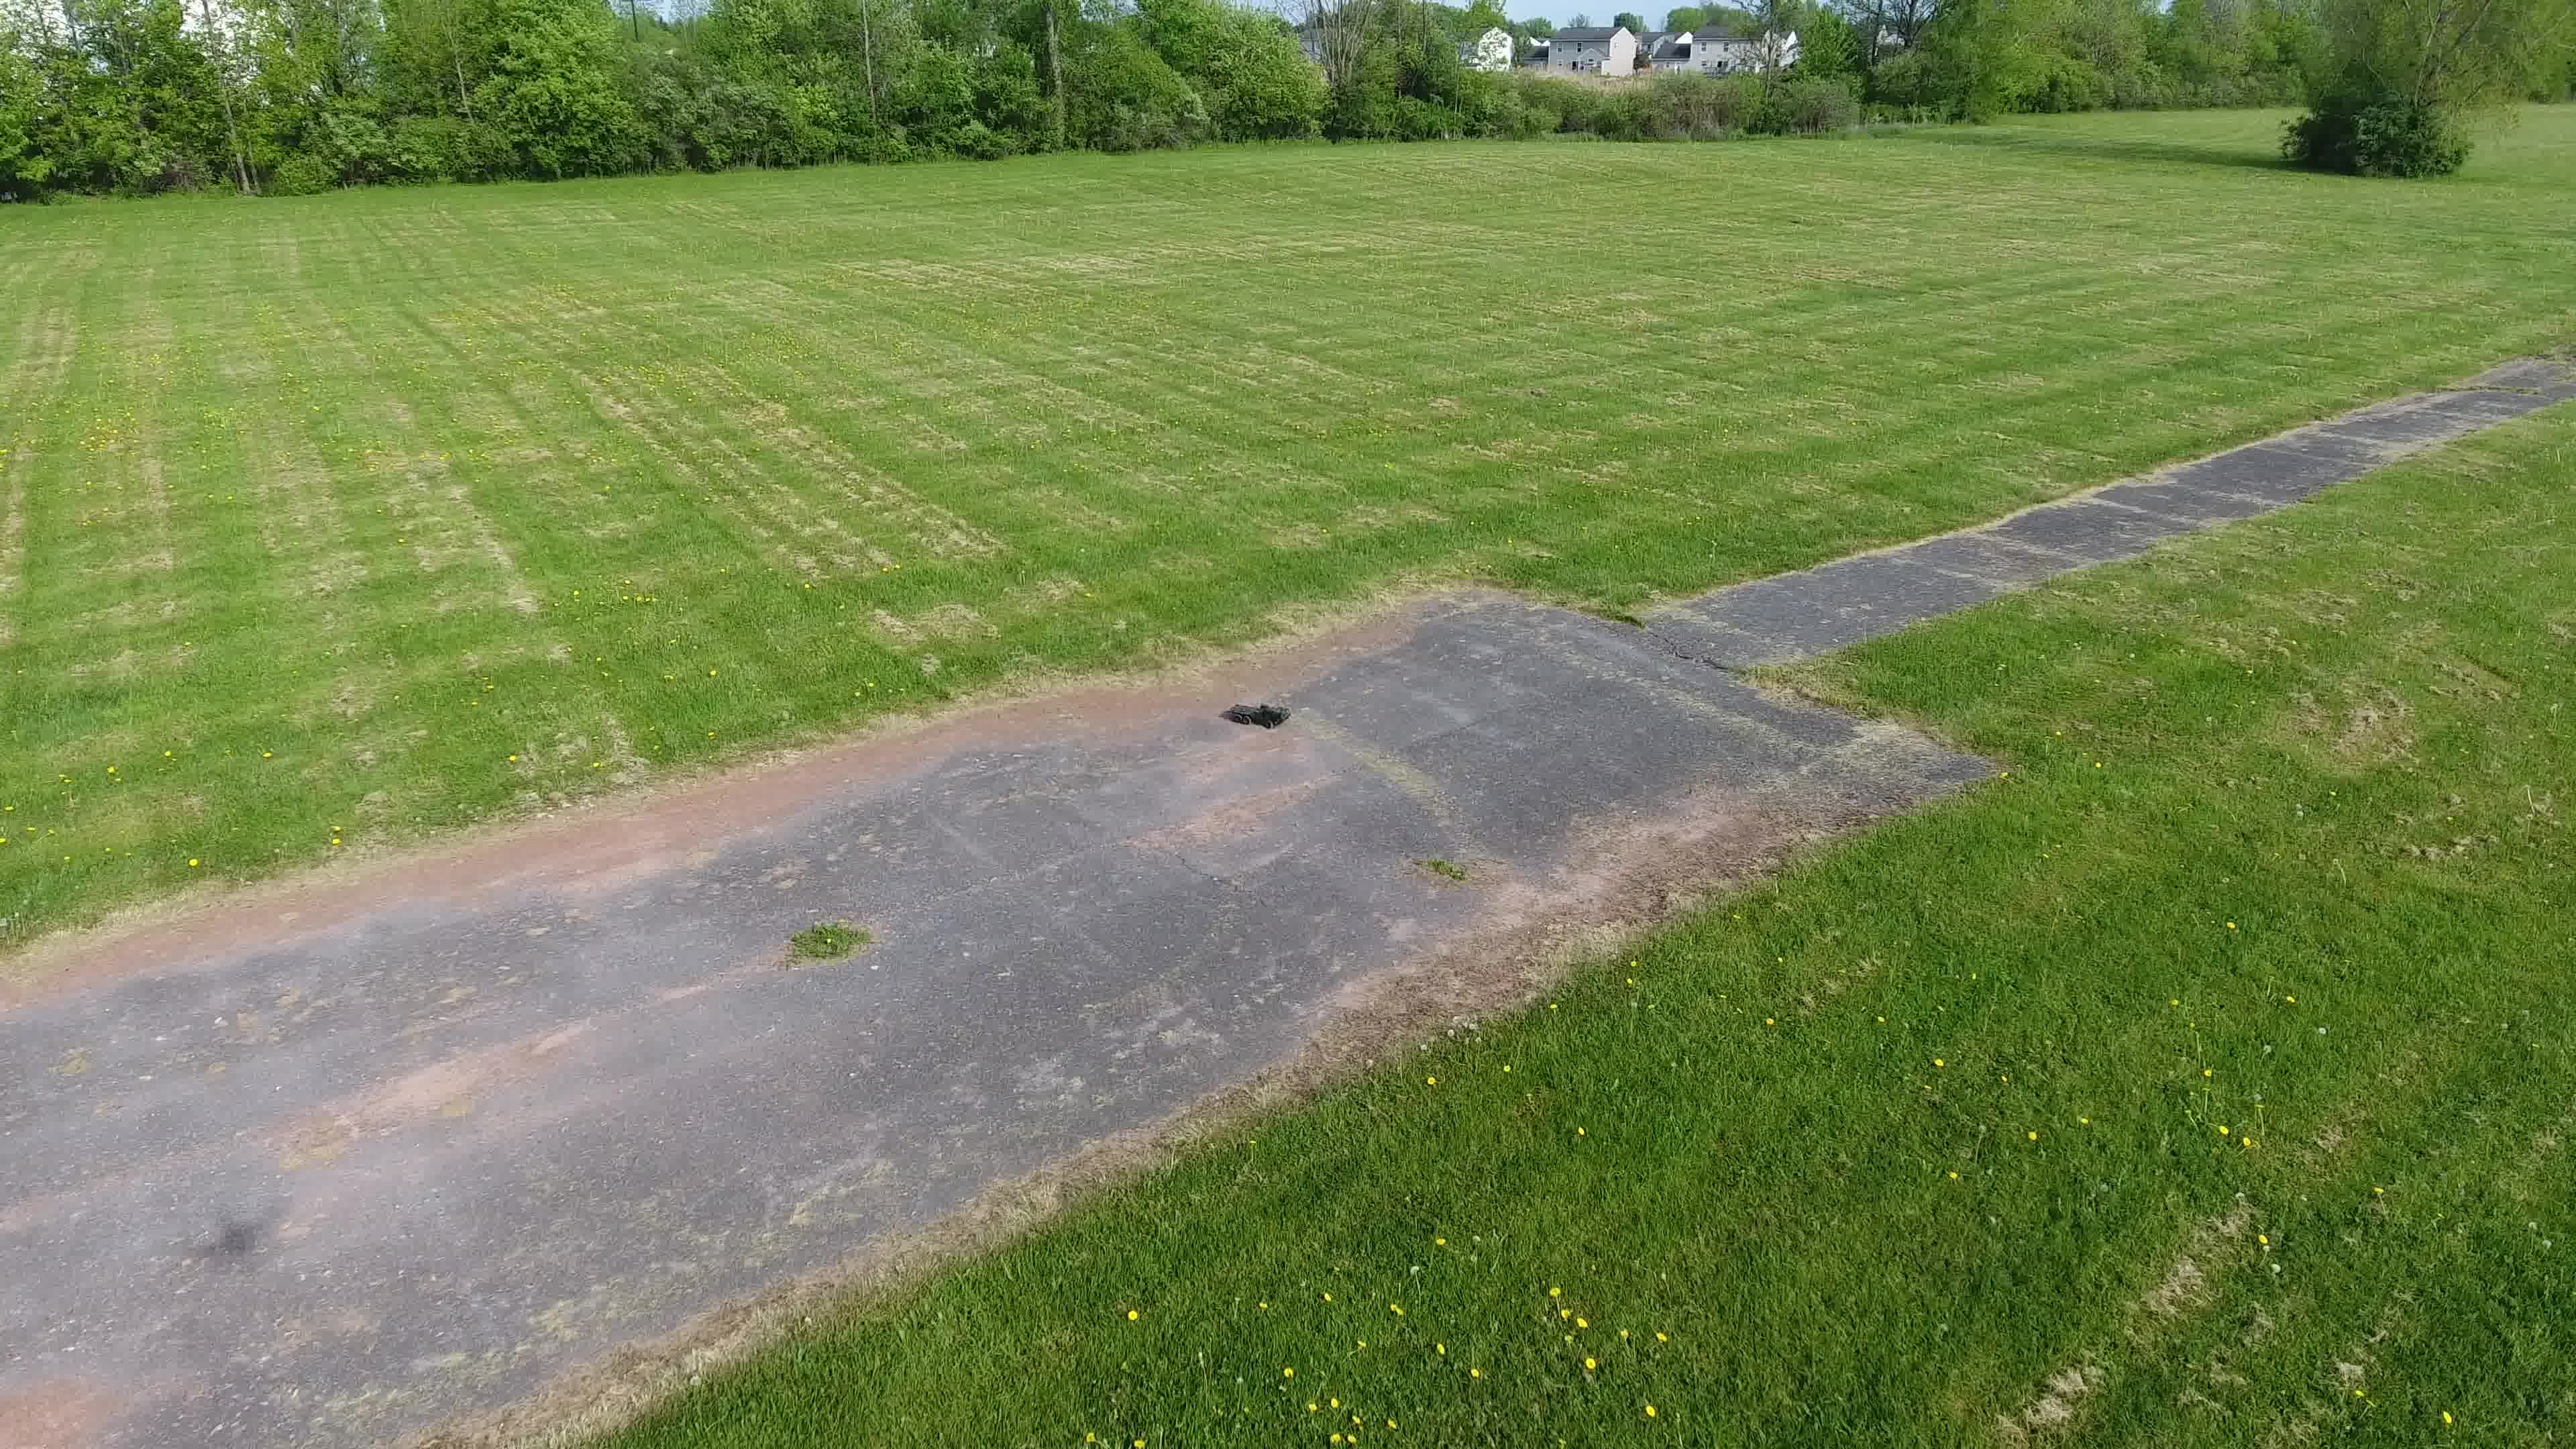transporter9_camo: (1223, 697, 1293, 731)
